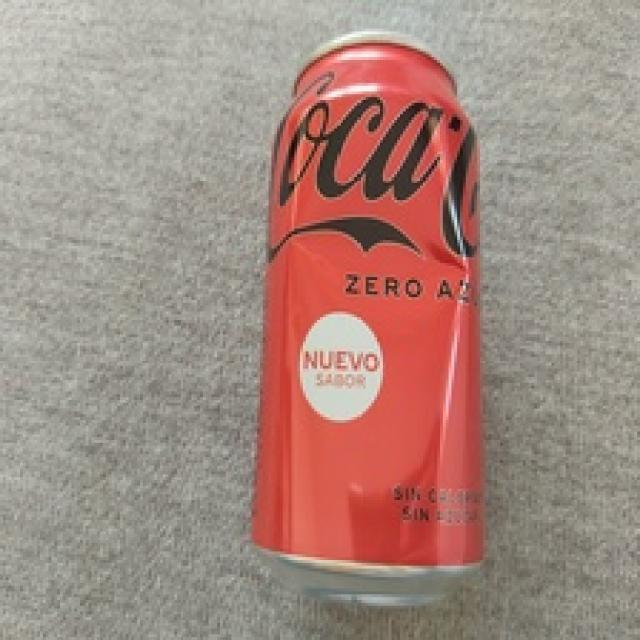recyclable: (245, 30, 488, 608)
